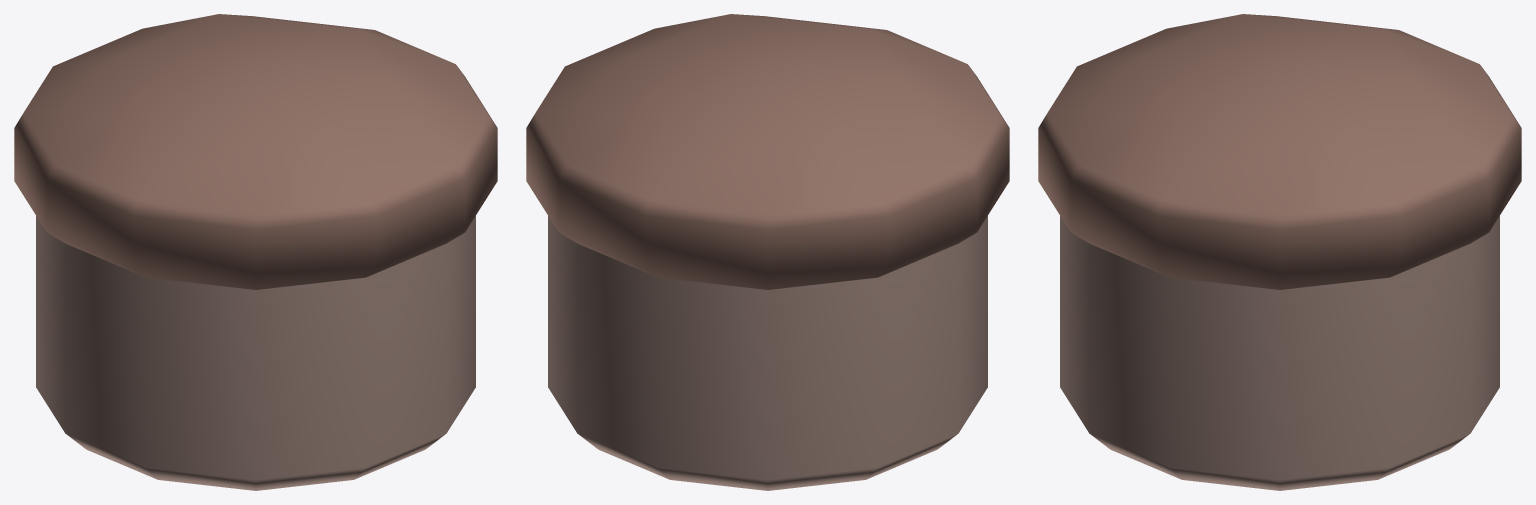
The model's file is chair_003.fbx.
3 renders of one model, left to right at view 1: azimuth 30°, elevation 25°; view 2: azimuth 150°, elevation 25°; view 3: azimuth 270°, elevation 25°, orthographic.
Visible parts, largest first — view 1: chair_003; view 2: chair_003; view 3: chair_003.
Boxes of the visible parts, bbox=[...] form: chair_003: bbox=[14, 14, 497, 490]; chair_003: bbox=[526, 14, 1009, 490]; chair_003: bbox=[1038, 14, 1521, 490].
Size of the model in its own units: 57.72 by 57.72 by 46.17.
